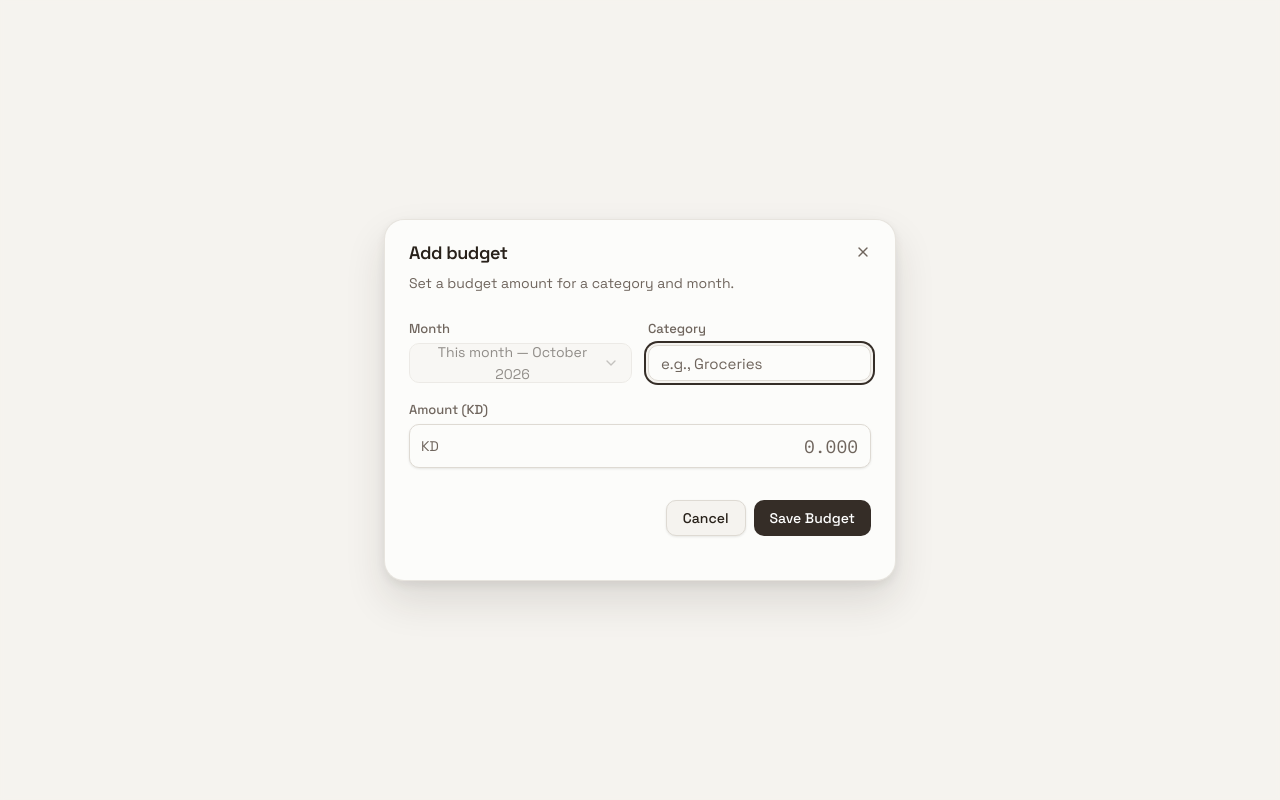
it: MOB-R87 polish › F8: the budget amount's readout shows the exact value
In the field labelled "Amount (KD)": [640, 446] box [409,424,871,468], type "1,234.5"
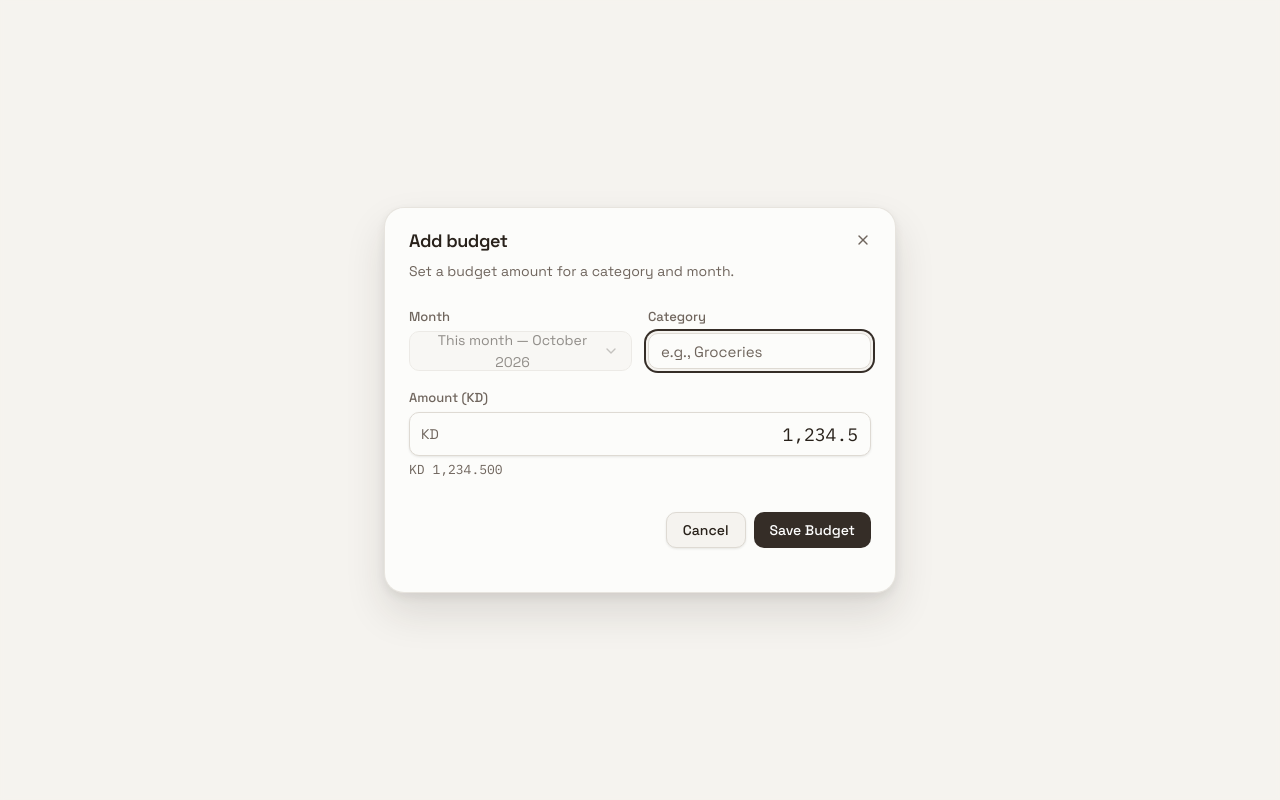
Check: the text with test id "money-input-readout" reads "KD 1,234.500", box [409,461,503,478]
